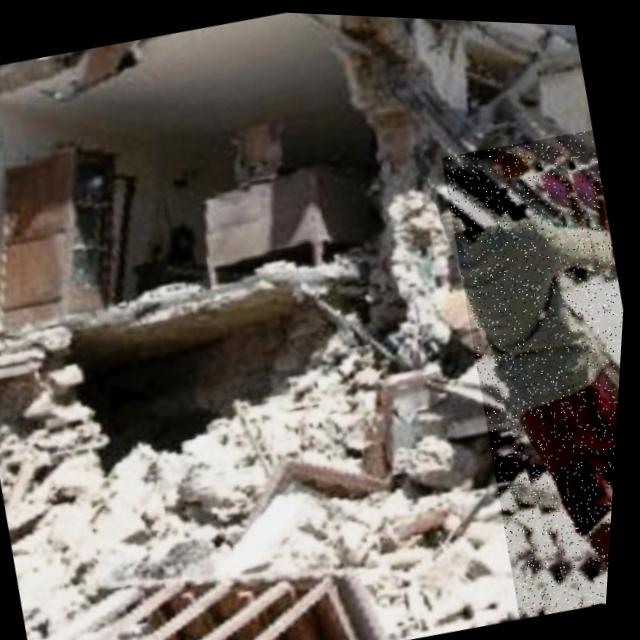Person in Rubble: (421, 119, 635, 616)
